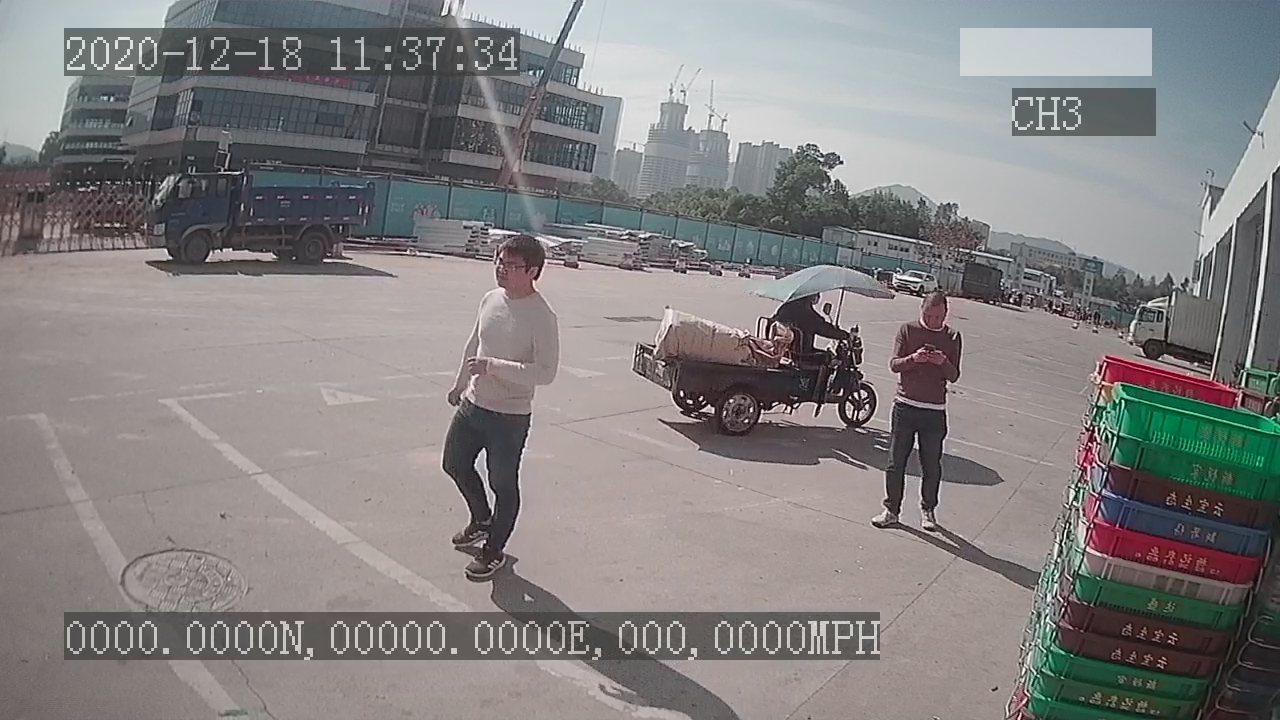person: (436, 228, 563, 581)
